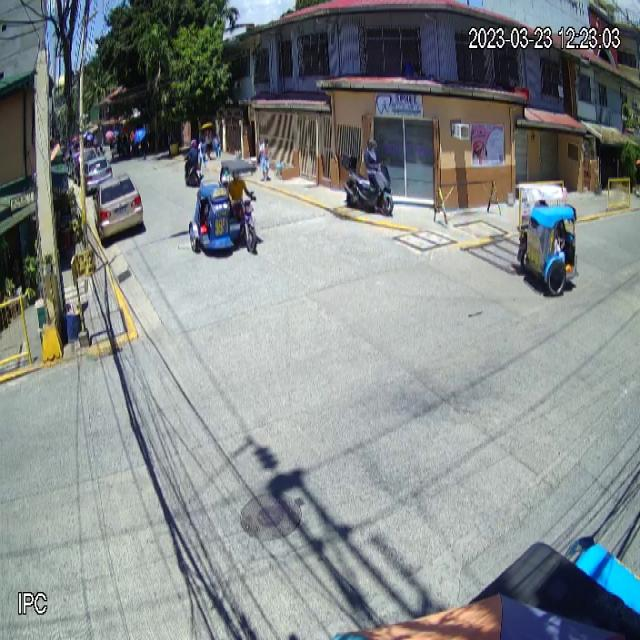Car: (92, 172, 145, 243)
Motorcycle: (342, 153, 394, 216)
Tricycle: (190, 155, 258, 264), (516, 182, 580, 295)
